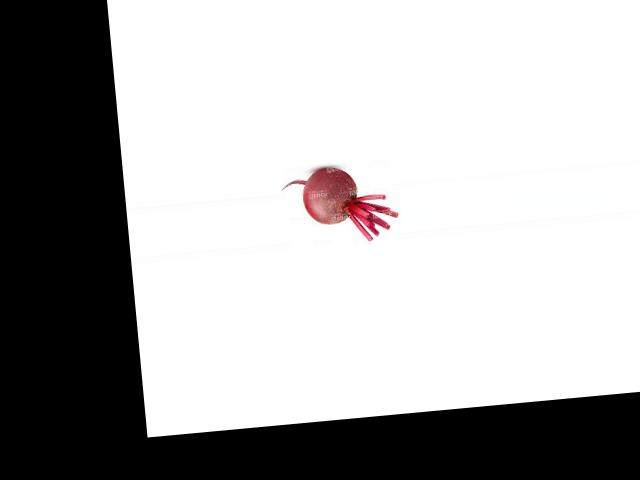beet: (280, 162, 401, 248)
